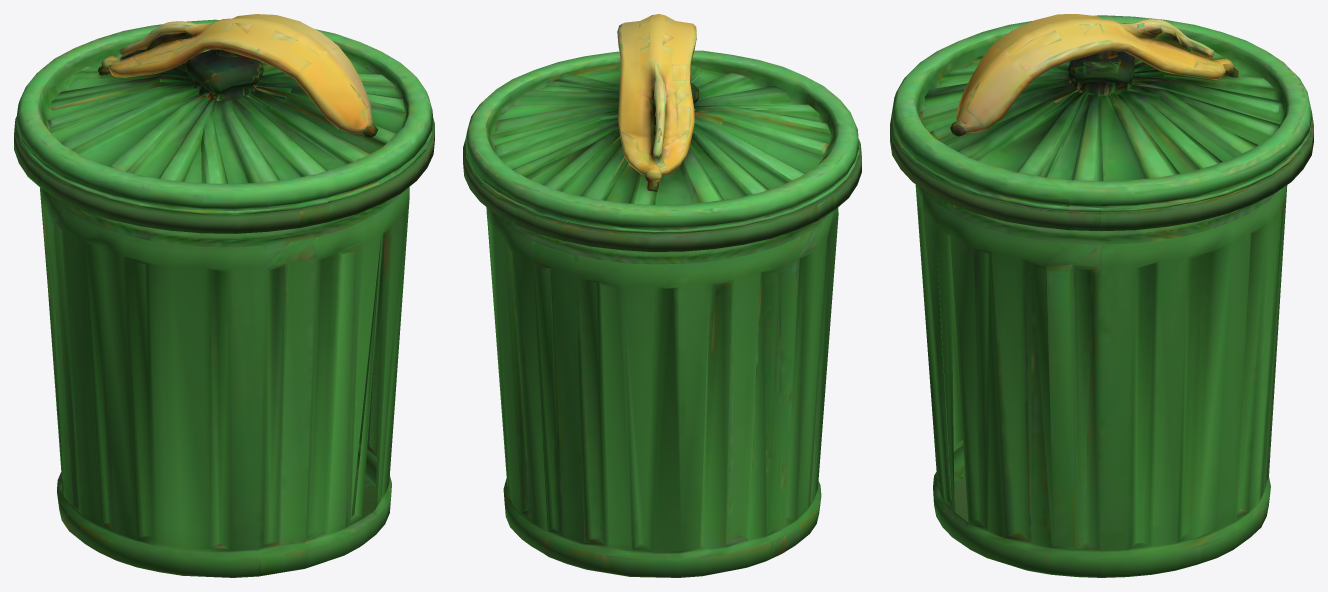
Rendered from trashcan.glb.
3 renders of one model, left to right at view 1: azimuth 30°, elevation 25°; view 2: azimuth 150°, elevation 25°; view 3: azimuth 270°, elevation 25°, orthographic. The views are drawn at different scales.
Visible parts, largest first — view 1: tripo_node_60316f49-3bc9-4213-af79-4bc08cdf7162; view 2: tripo_node_60316f49-3bc9-4213-af79-4bc08cdf7162; view 3: tripo_node_60316f49-3bc9-4213-af79-4bc08cdf7162.
Boxes of the visible parts, x1,y1,x2,y2 form: tripo_node_60316f49-3bc9-4213-af79-4bc08cdf7162: [14, 14, 434, 577]; tripo_node_60316f49-3bc9-4213-af79-4bc08cdf7162: [463, 14, 861, 577]; tripo_node_60316f49-3bc9-4213-af79-4bc08cdf7162: [890, 14, 1313, 577].
Bounding box in the file's own units: 0.7716 × 0.998 × 0.7716.
1 material, 1 textured.
